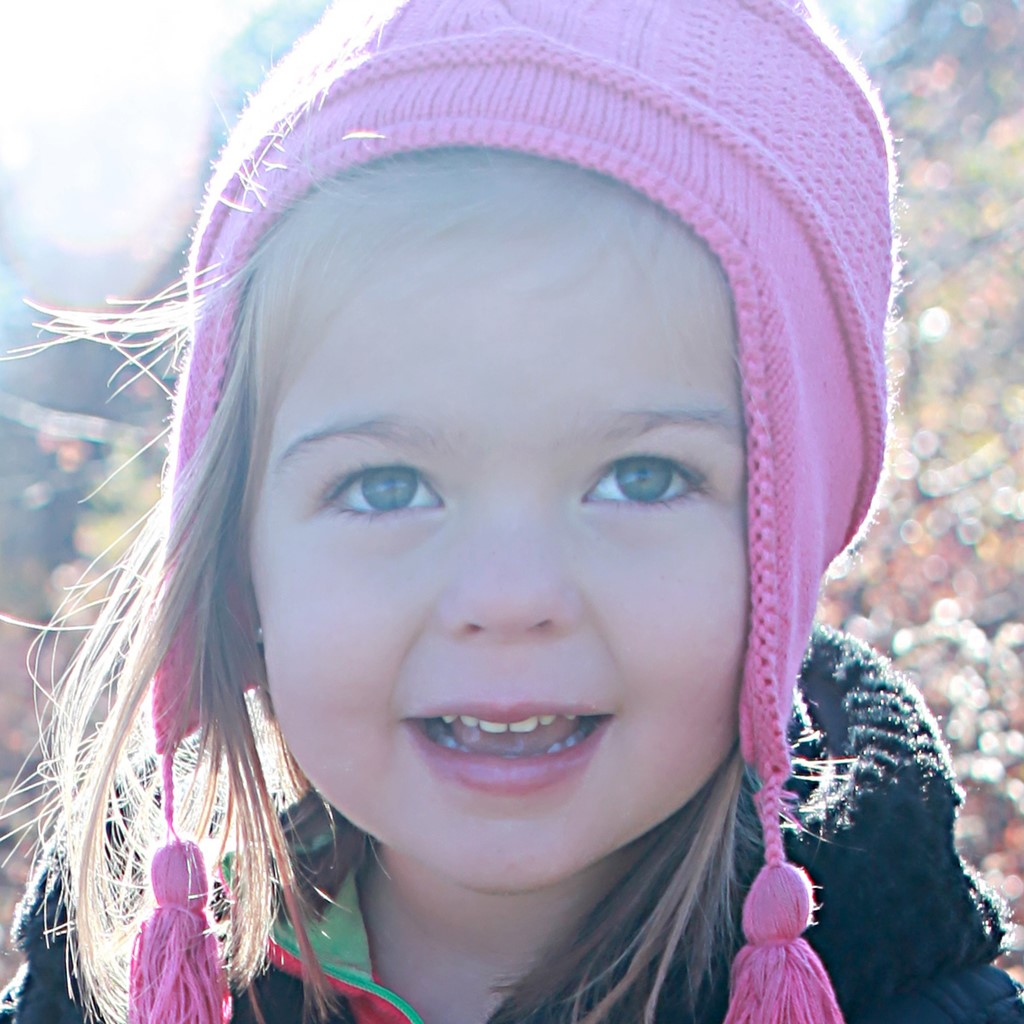sin_mascara: (240, 144, 812, 881)
